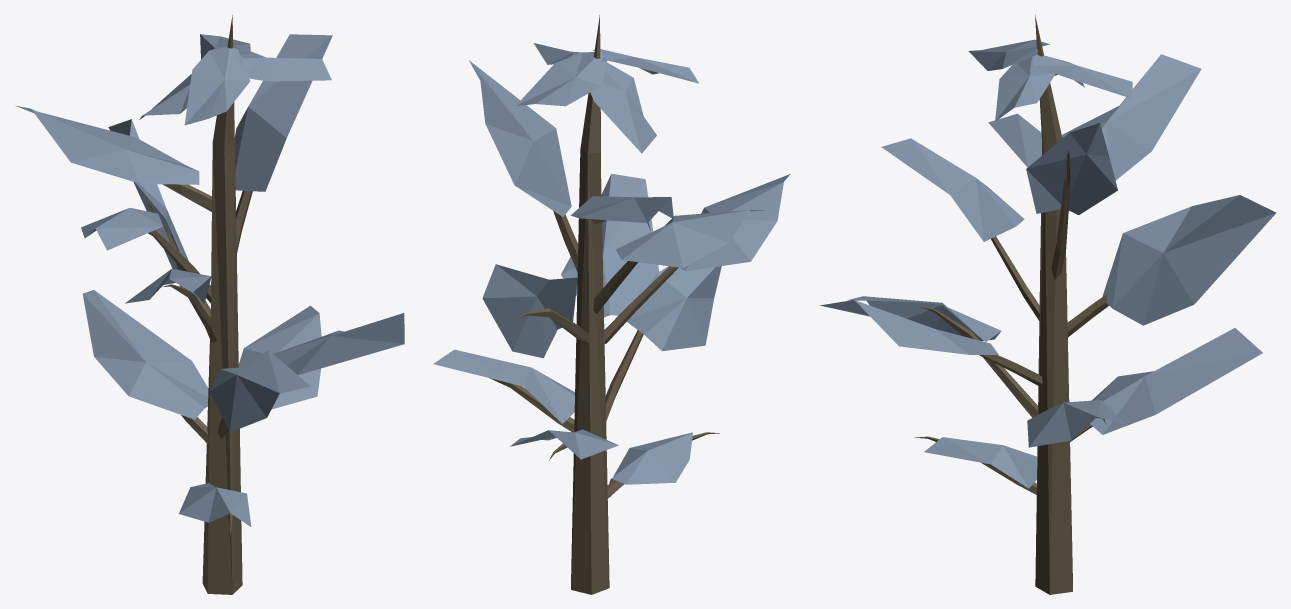
The model's file is Blue_Spruce_4_2.fbx.
3 renders of one model, left to right at view 1: azimuth 30°, elevation 25°; view 2: azimuth 150°, elevation 25°; view 3: azimuth 270°, elevation 25°, orthographic. The views are drawn at different scales.
Visible parts, largest first — view 1: Spurce_4_2; view 2: Spurce_4_2; view 3: Spurce_4_2.
Part boxes in pixels (x1,y1,x2,y2): Spurce_4_2: (15, 15, 404, 594); Spurce_4_2: (433, 15, 790, 594); Spurce_4_2: (819, 15, 1276, 594).
Bounding box in the file's own units: 193 × 391 × 283.
